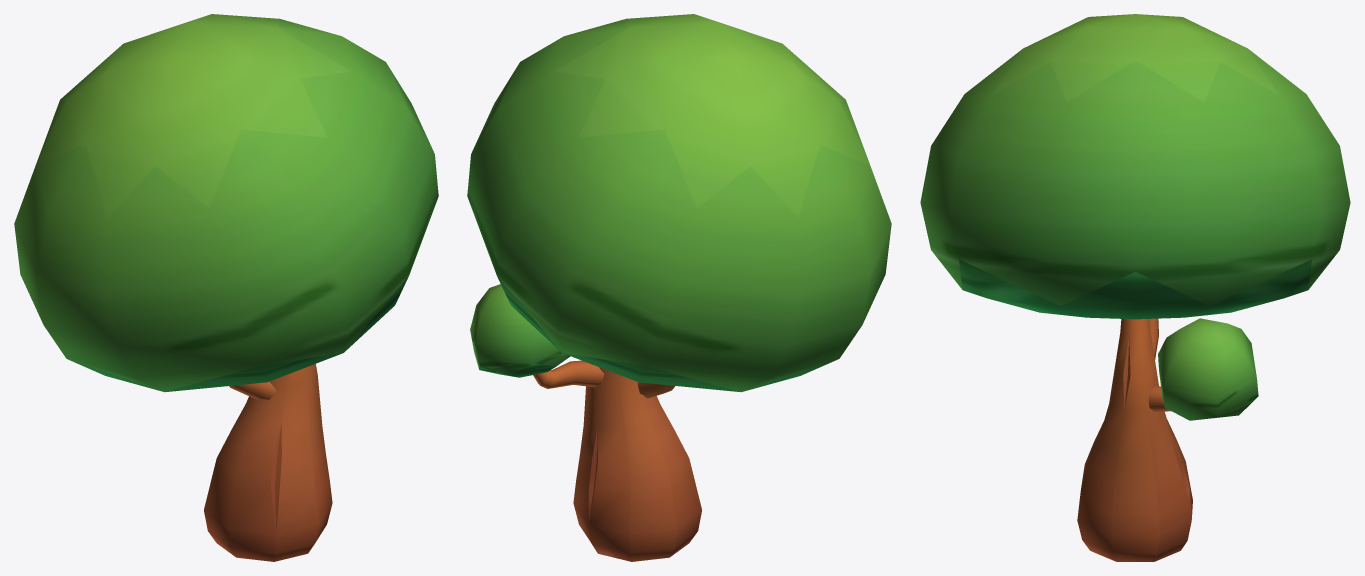
The model's file is tree.glb.
3 renders of one model, left to right at view 1: azimuth 30°, elevation 25°; view 2: azimuth 150°, elevation 25°; view 3: azimuth 270°, elevation 25°, orthographic. The views are drawn at different scales.
Visible parts, largest first — view 1: Tree_1_A_Color1; view 2: Tree_1_A_Color1; view 3: Tree_1_A_Color1.
Boxes of the visible parts, box(x1,y1,x2,y2) form: Tree_1_A_Color1: box(14, 14, 438, 561); Tree_1_A_Color1: box(467, 14, 891, 561); Tree_1_A_Color1: box(920, 14, 1350, 561).
Bounding box in the file's own units: 3.18 × 4.16 × 3.25.
1 material, 1 textured.
